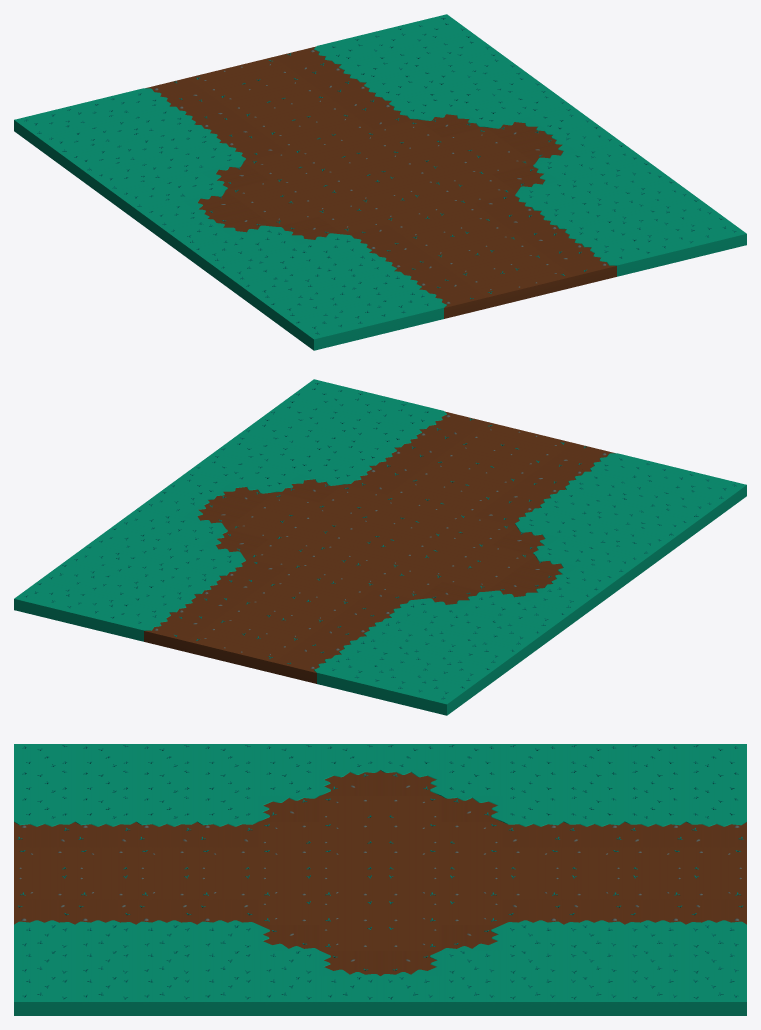
Rendered from ERTTTTTTTTTTTTTTT.fbx.
3 renders of one model, top to bottom at view 1: azimuth 30°, elevation 25°; view 2: azimuth 150°, elevation 25°; view 3: azimuth 270°, elevation 25°, orthographic. The views are drawn at different scales.
Visible parts, largest first — view 1: corner_grass5; view 2: corner_grass5; view 3: corner_grass5.
Part boxes in pixels (left/top/right/bottom): corner_grass5: left=14, top=14, right=746, bottom=350; corner_grass5: left=14, top=379, right=746, bottom=715; corner_grass5: left=14, top=744, right=746, bottom=1015.
Size of the model in its own units: 40 by 1.15 by 48.
Materials: 1 (1 with a texture image).
